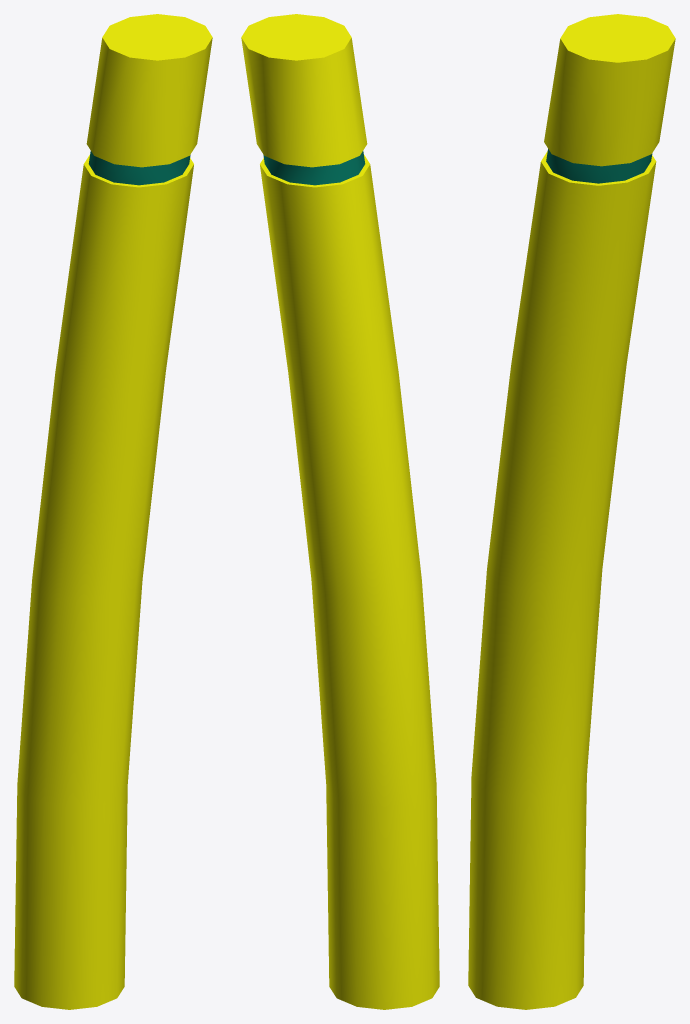
Rendered from SM_poteau_02.fbx.
3 views of the same model, side by side, from view 1: azimuth 30°, elevation 25°; view 2: azimuth 150°, elevation 25°; view 3: azimuth 330°, elevation 25° (orthographic). The views are drawn at different scales.
Visible parts, largest first — view 1: SM_poteau_02; view 2: SM_poteau_02; view 3: SM_poteau_02.
Boxes of the visible parts, x1,y1,x2,y2 form: SM_poteau_02: [14, 14, 212, 1009]; SM_poteau_02: [241, 14, 439, 1009]; SM_poteau_02: [468, 14, 675, 1009].
Size of the model in its own units: 0.1339 by 0.6465 by 0.0697.
